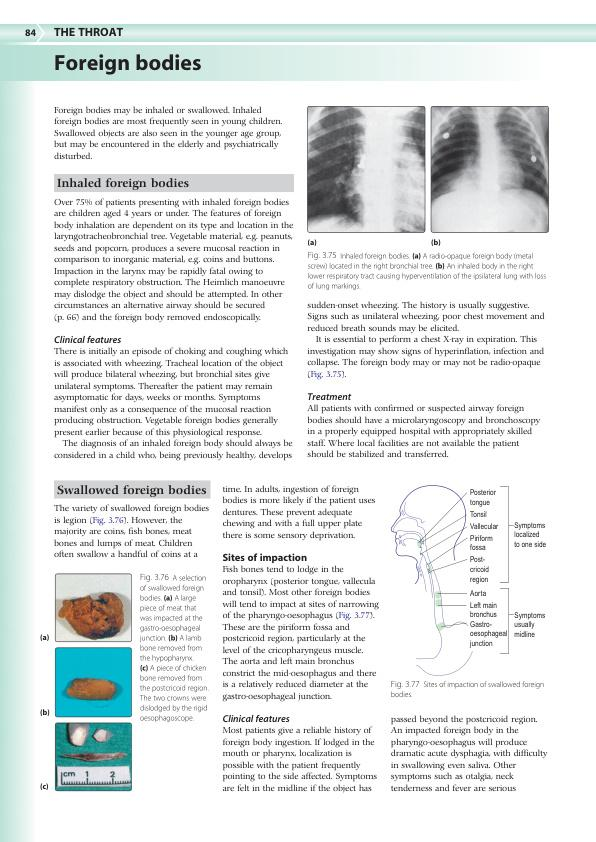caption: (138, 572, 209, 724), (307, 251, 547, 291), (389, 679, 545, 698), (38, 708, 51, 718), (38, 782, 50, 791), (39, 633, 50, 642), (307, 238, 318, 247), (430, 238, 441, 247)
chapter-heading: (54, 52, 202, 76)
header: (53, 26, 124, 37)
image: (387, 482, 551, 678), (306, 105, 427, 234), (430, 105, 549, 233), (54, 647, 132, 718), (54, 722, 132, 792), (55, 573, 132, 642)
section-heading: (55, 484, 207, 498), (56, 176, 190, 191)
sub-section-heading: (221, 552, 308, 564), (53, 334, 122, 345), (222, 714, 291, 723), (306, 391, 352, 401)
text: (52, 197, 294, 324), (53, 346, 294, 461), (220, 564, 380, 702), (306, 300, 545, 381), (306, 402, 541, 459), (53, 104, 283, 160), (389, 714, 548, 791), (221, 725, 378, 794), (221, 483, 376, 542), (52, 503, 211, 559)
